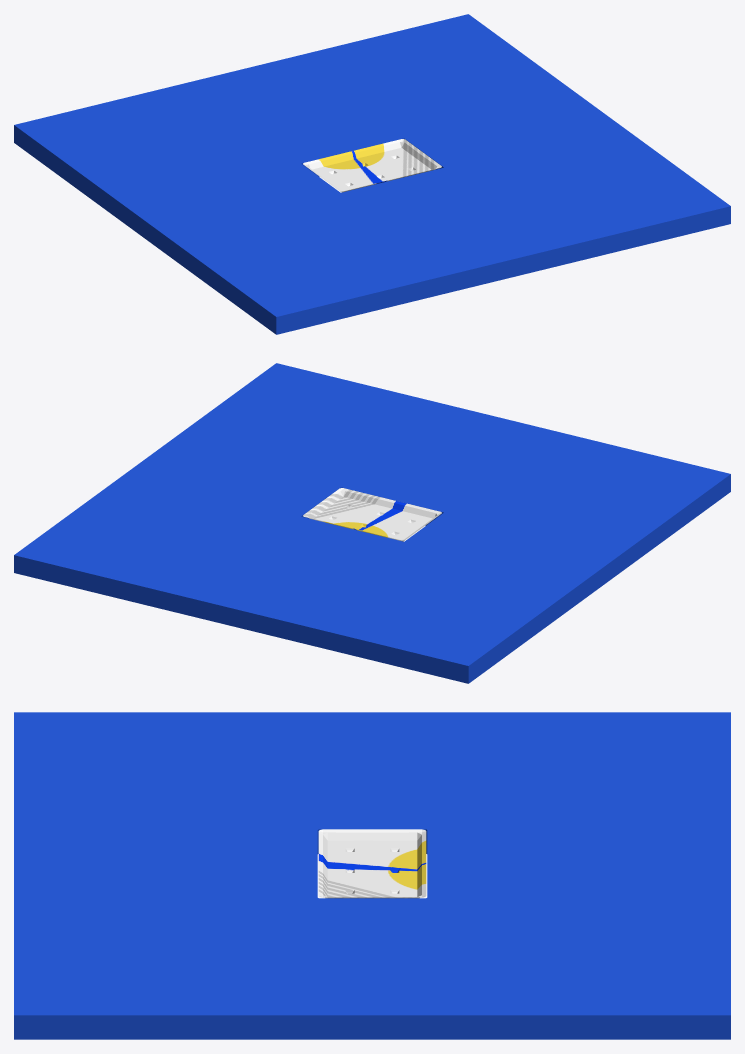
The model's file is game-objects.glb.
3 renders of one model, top to bottom at view 1: azimuth 30°, elevation 25°; view 2: azimuth 150°, elevation 25°; view 3: azimuth 270°, elevation 25°, orthographic. The views are drawn at different scales.
Parts seen in each view (by area): view 1: Plane, Table_Plane; view 2: Plane, Table_Plane; view 3: Plane, Table_Plane.
Boxes of the visible parts, x1=… form: Plane: x1=14, y1=14, x2=730, y2=334; Table_Plane: x1=303, y1=139, x2=441, y2=192; Plane: x1=14, y1=363, x2=730, y2=683; Table_Plane: x1=303, y1=488, x2=441, y2=541; Plane: x1=14, y1=712, x2=730, y2=1039; Table_Plane: x1=318, y1=829, x2=426, y2=898.
Bounding box in the file's own units: 80 × 3.04 × 80.
Materials: 2 (1 with a texture image).
